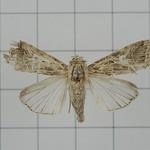Spodoptera litura: (2, 40, 150, 124)
